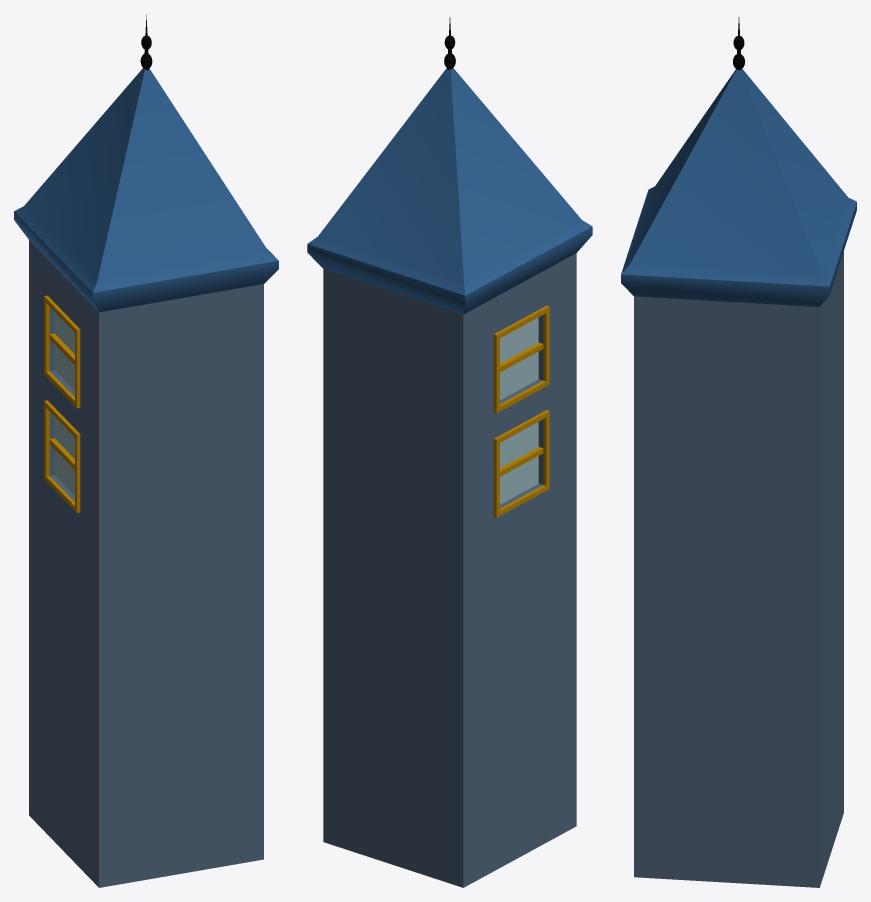
File: Topp.fbx
3 views of the same model, side by side, from view 1: azimuth 30°, elevation 25°; view 2: azimuth 150°, elevation 25°; view 3: azimuth 270°, elevation 25° (orthographic).
Parts seen in each view (by area): view 1: Default(25EBCE96-919C-42B2-94B0-D2AB26F09CA7*, Default(06B24B22-9CDE-4601-B50D-6073F47573F7*, Default(8A311567-3C1D-4961-8098-878DD486F05E*, Default(B0A7BFFF-5777-4461-A794-4FD283C4DF8E*, Default(847208A8-F9E9-4D86-A06D-78CFBB1B194E*; view 2: Default(25EBCE96-919C-42B2-94B0-D2AB26F09CA7*, Default(06B24B22-9CDE-4601-B50D-6073F47573F7*, Default(8A311567-3C1D-4961-8098-878DD486F05E*, Default(B0A7BFFF-5777-4461-A794-4FD283C4DF8E*, Default(847208A8-F9E9-4D86-A06D-78CFBB1B194E*; view 3: Default(25EBCE96-919C-42B2-94B0-D2AB26F09CA7*, Default(06B24B22-9CDE-4601-B50D-6073F47573F7*, Default(8A311567-3C1D-4961-8098-878DD486F05E*.
Boxes of the visible parts, x1,y1,x2,y2 form: Default(25EBCE96-919C-42B2-94B0-D2AB26F09CA7*: (29,240,263,887); Default(06B24B22-9CDE-4601-B50D-6073F47573F7*: (14,68,278,292); Default(8A311567-3C1D-4961-8098-878DD486F05E*: (14,211,278,312); Default(B0A7BFFF-5777-4461-A794-4FD283C4DF8E*: (44,295,80,512); Default(847208A8-F9E9-4D86-A06D-78CFBB1B194E*: (55,312,74,495); Default(25EBCE96-919C-42B2-94B0-D2AB26F09CA7*: (323,253,576,887); Default(06B24B22-9CDE-4601-B50D-6073F47573F7*: (307,68,592,295); Default(8A311567-3C1D-4961-8098-878DD486F05E*: (307,226,592,314); Default(B0A7BFFF-5777-4461-A794-4FD283C4DF8E*: (493,305,549,517); Default(847208A8-F9E9-4D86-A06D-78CFBB1B194E*: (500,317,538,504); Default(25EBCE96-919C-42B2-94B0-D2AB26F09CA7*: (634,251,843,887); Default(06B24B22-9CDE-4601-B50D-6073F47573F7*: (621,69,856,286); Default(8A311567-3C1D-4961-8098-878DD486F05E*: (621,202,856,306).
Bounding box in the file's own units: 48.93 × 196 × 50.32.
